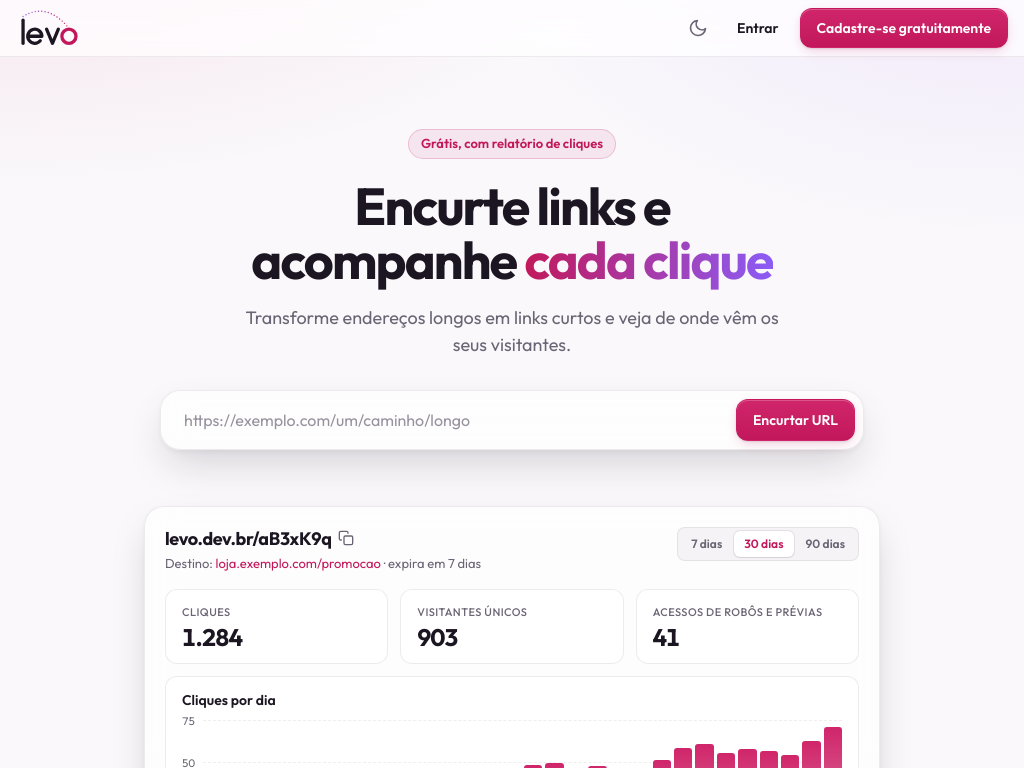
Test: Home › URL vazia ou sem http(s) mostra o erro em vez do modal
Click the button "Encurtar URL".
click(795, 420)  # box [736, 399, 855, 441]
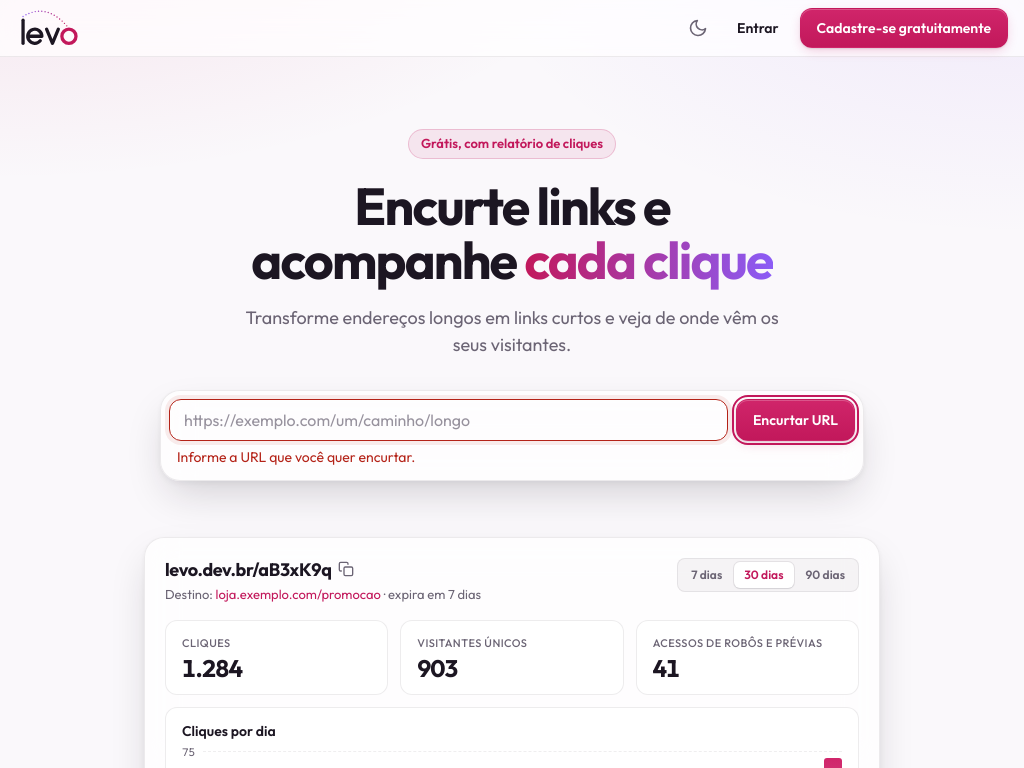
Expected: the message reads "Informe a URL que você quer encurtar.", [177, 448, 415, 466]
Type "exemplo.com" into the field named "URL longa".
click(448, 420); type("exemplo.com")  # box [169, 399, 728, 441]
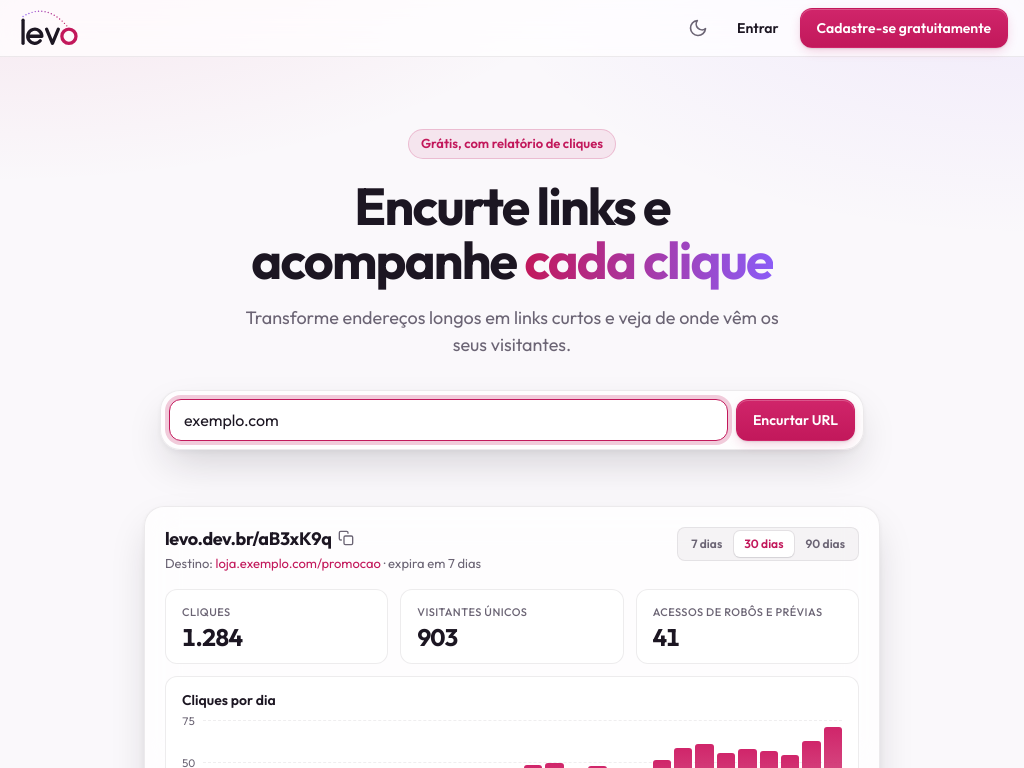
Click the button "Encurtar URL".
click(795, 420)  # box [736, 399, 855, 441]
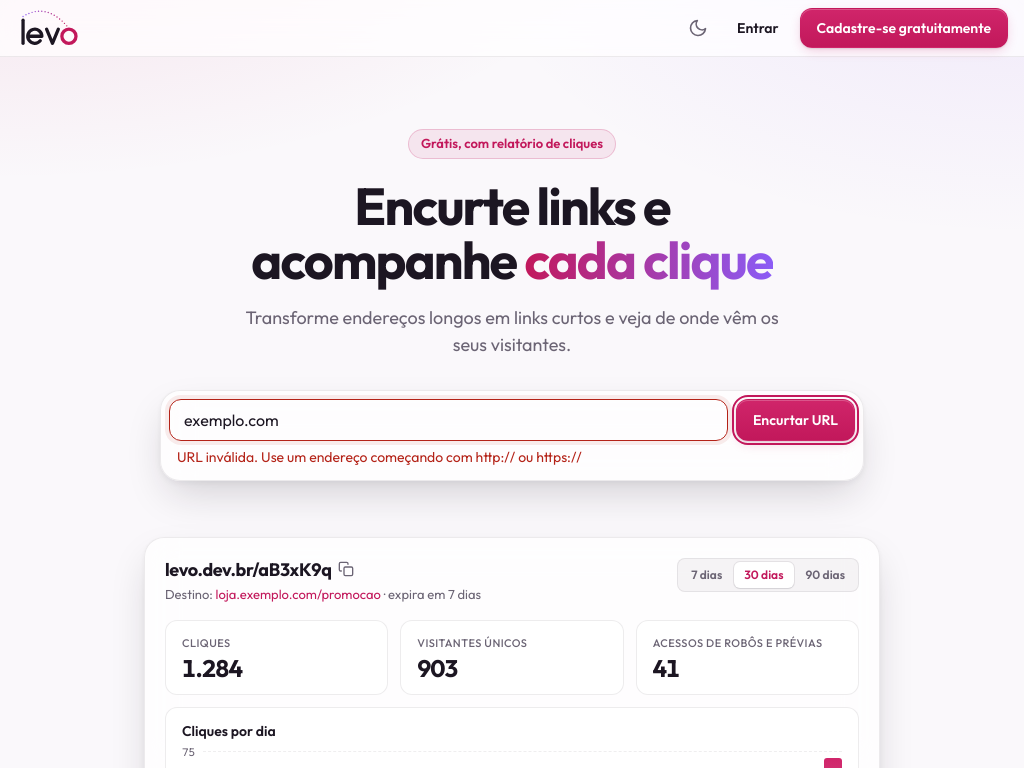
Expected: the message shows "URL inválida", [177, 448, 582, 466]
